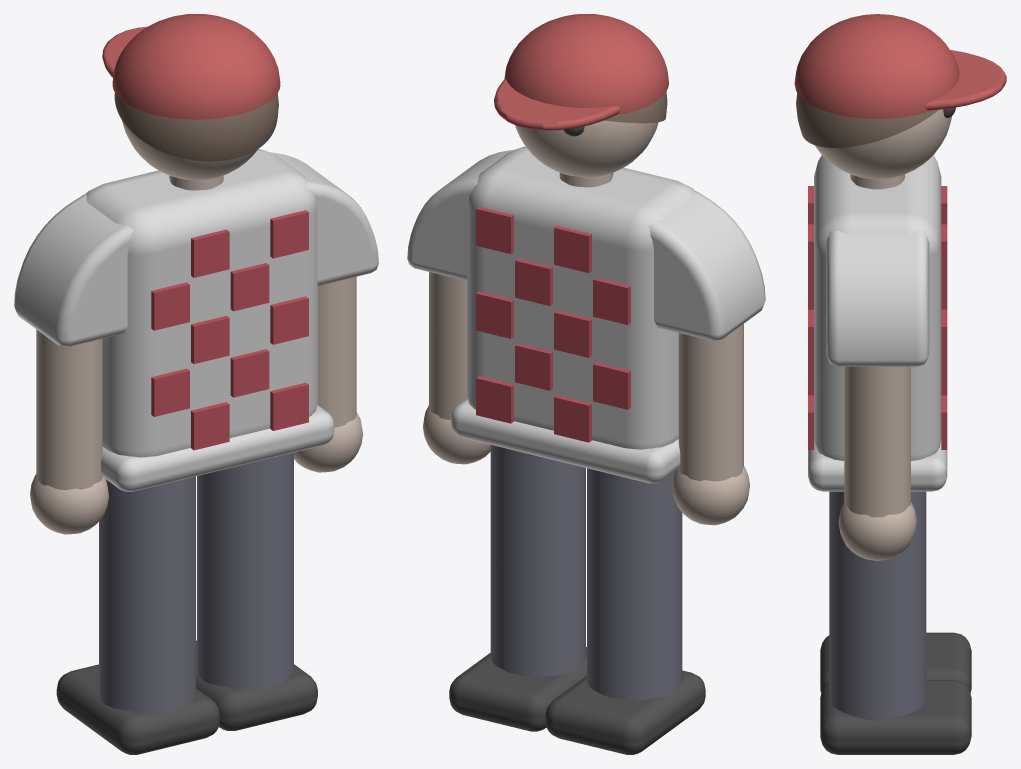
File: person_c.glb
The picture shows the model from 3 angles, left to right: view 1: azimuth 30°, elevation 25°; view 2: azimuth 150°, elevation 25°; view 3: azimuth 270°, elevation 25°; orthographic projection.
Parts seen in each view (by area): view 1: geometry_0; view 2: geometry_0; view 3: geometry_0.
Boxes of the visible parts, x1,y1,x2,y2 form: geometry_0: (14,14,378,754); geometry_0: (407,14,765,754); geometry_0: (794,14,1006,754).
Size of the model in its own units: 1.22 by 2.51 by 0.7004.
